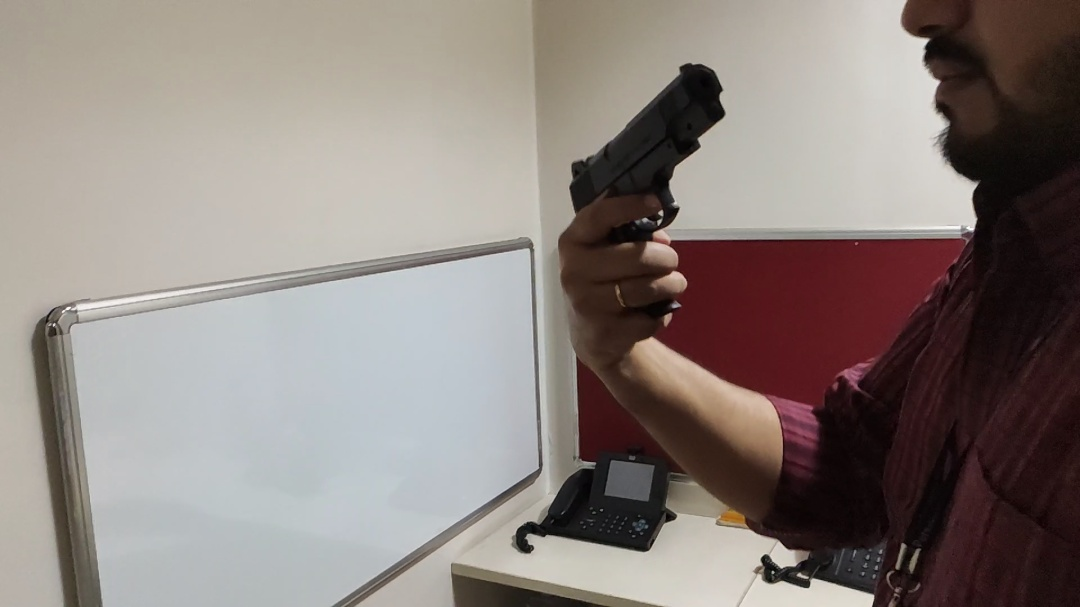gun: (558, 51, 753, 327)
